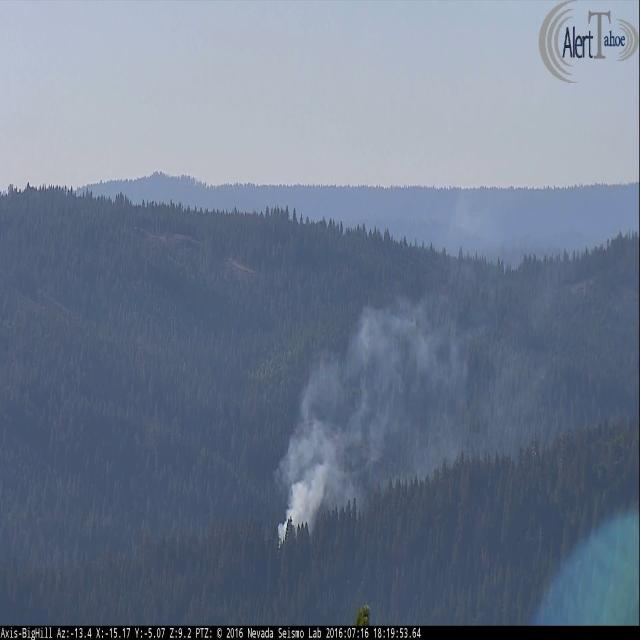smoke: (276, 306, 413, 558)
